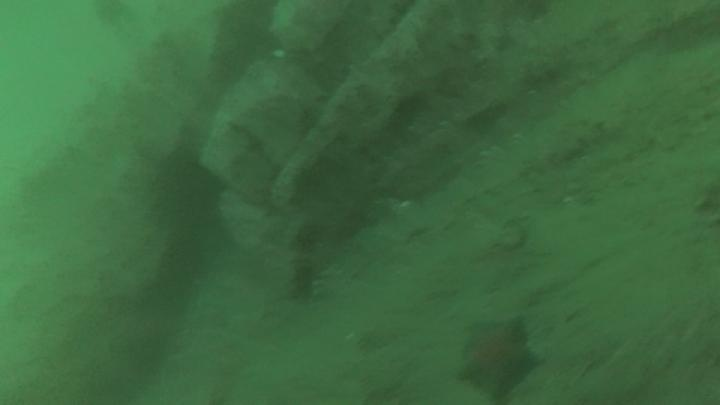starfish: (455, 316, 543, 403)
